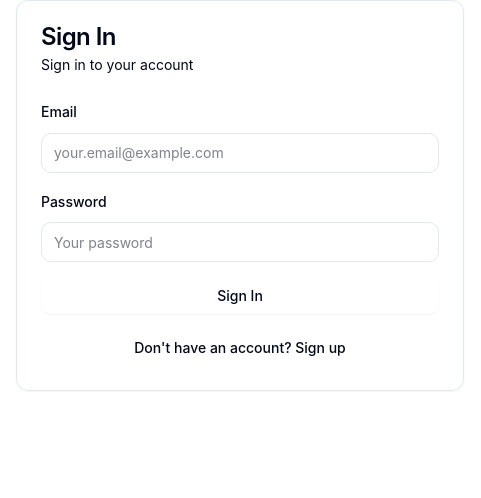
Test case: AuthForm integration › switches to sign-up mode and submits username, email, and password
Later steps or results of the test are not shown.
Click the button "Don't have an account? Sign up" at (240, 348), box [118,330,362,366]
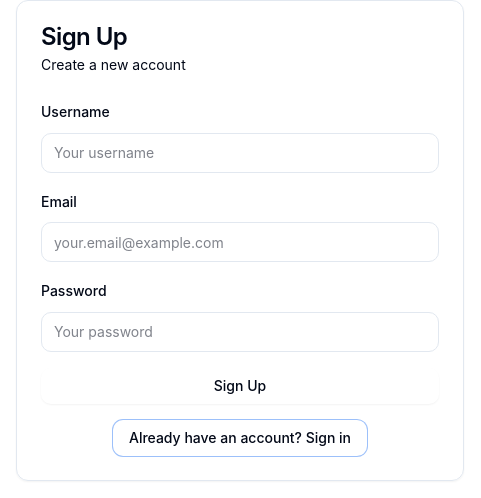
Now the field labelled "Username" is shown, box [41,133,439,173]
